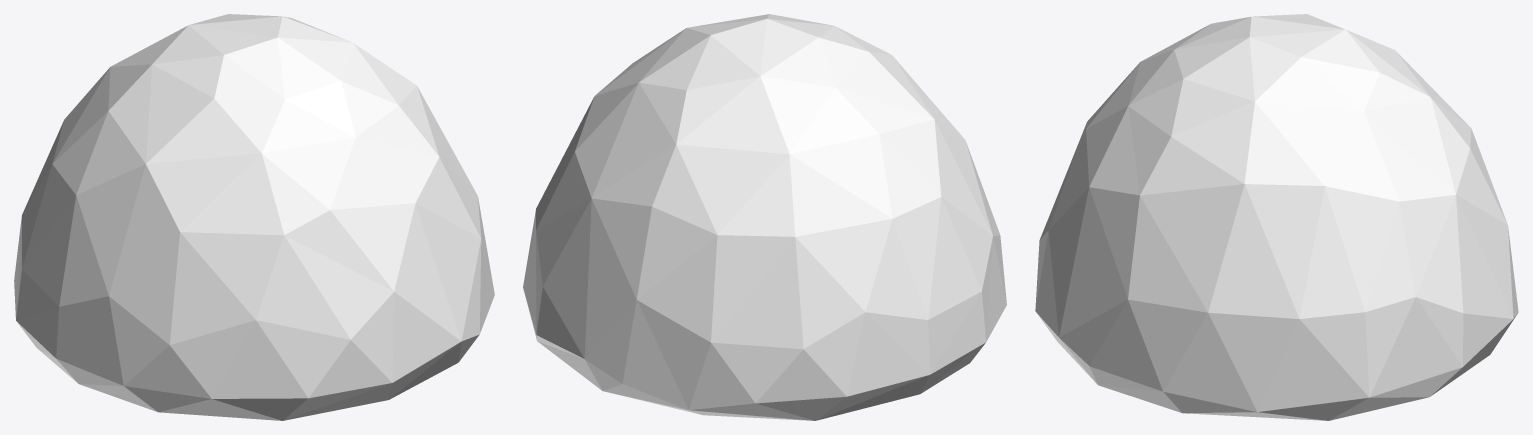
Rendered from Slime.fbx.
The picture shows the model from 3 angles, left to right: view 1: azimuth 30°, elevation 25°; view 2: azimuth 150°, elevation 25°; view 3: azimuth 270°, elevation 25°; orthographic projection.
Visible parts, largest first — view 1: Slime; view 2: Slime; view 3: Slime.
Part boxes in pixels (bbox=[...]): Slime: bbox=[14, 14, 494, 420]; Slime: bbox=[523, 14, 1006, 420]; Slime: bbox=[1035, 14, 1518, 420].
Bounding box in the file's own units: 177 × 129 × 177.
